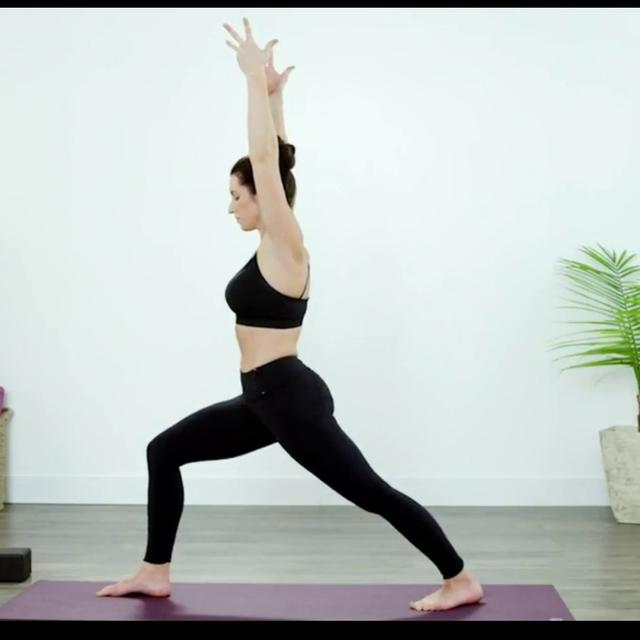Warrior_I: (101, 14, 486, 613)
